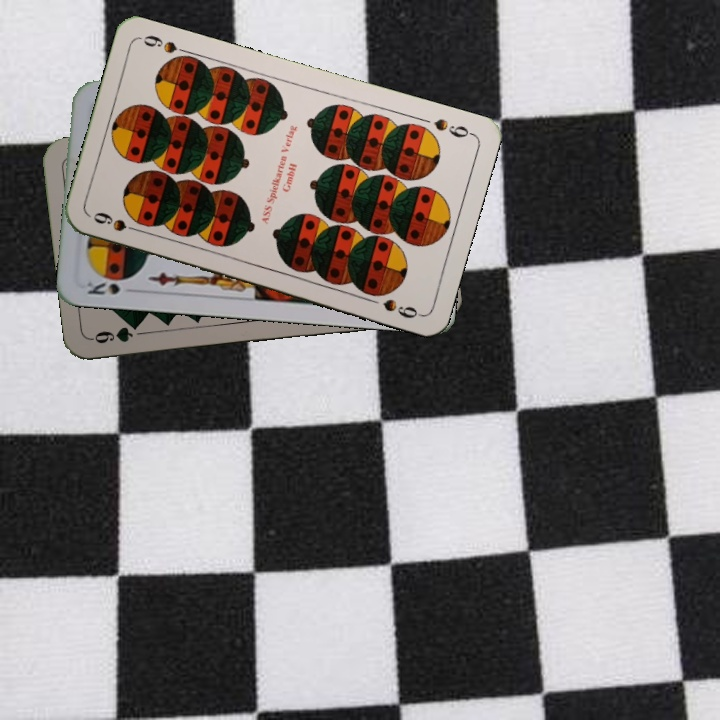G9: (88, 324, 147, 347)
S9: (89, 208, 146, 236), (430, 114, 476, 141)
SK: (83, 272, 137, 298)
